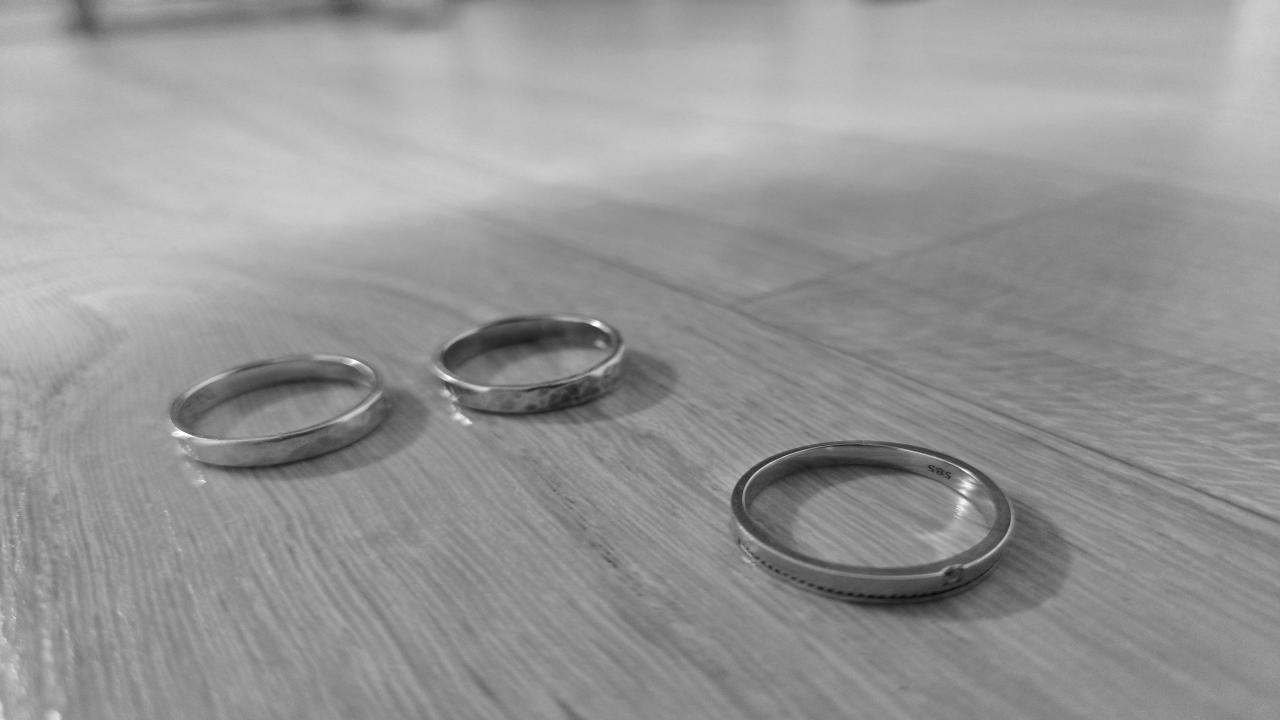ring: (732, 440, 1014, 598), (164, 352, 387, 466), (426, 312, 630, 414)
